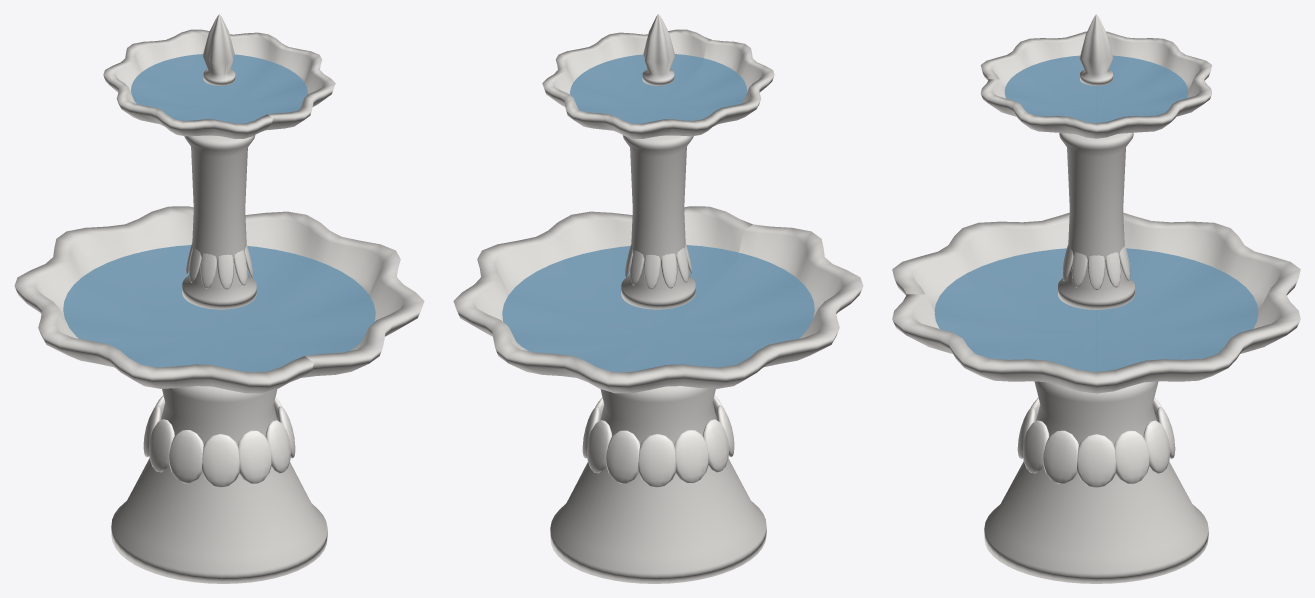
3 views of the same model, side by side, from view 1: azimuth 30°, elevation 25°; view 2: azimuth 150°, elevation 25°; view 3: azimuth 270°, elevation 25° (orthographic).
Parts seen in each view (by area): view 1: basin-basin-1, eau-basin-1, col-bell-0, basin-basin-3, eau-basin-3, col-col-2, leaf-bell-0-4, flame-flame-4, leaf-bell-0-5, leaf-bell-0-3, leaf-bell-0-6, leaf-bell-0-2; view 2: basin-basin-1, eau-basin-1, col-bell-0, basin-basin-3, eau-basin-3, col-col-2, leaf-bell-0-8, flame-flame-4, leaf-bell-0-7, leaf-bell-0-9, leaf-bell-0-6, leaf-bell-0-10; view 3: basin-basin-1, eau-basin-1, col-bell-0, basin-basin-3, col-col-2, eau-basin-3, leaf-bell-0-0, flame-flame-4, leaf-bell-0-1, leaf-bell-0-11, leaf-bell-0-2, leaf-bell-0-10 (+1 smaller).
Part boxes in pixels (x1,y1,x2,y2): basin-basin-1: (14,206,424,393); eau-basin-1: (63,245,375,371); col-bell-0: (111,386,327,583); basin-basin-3: (103,29,335,138); eau-basin-3: (131,54,307,123); col-col-2: (182,135,256,309); leaf-bell-0-4: (202,434,239,487); flame-flame-4: (202,14,235,85); leaf-bell-0-5: (169,430,203,483); leaf-bell-0-3: (237,430,271,483); leaf-bell-0-6: (148,419,174,472); leaf-bell-0-2: (265,420,290,473); basin-basin-1: (453,206,863,393); eau-basin-1: (502,245,814,371); col-bell-0: (550,386,766,583); basin-basin-3: (542,29,774,138); eau-basin-3: (570,54,746,123); col-col-2: (621,135,695,309); leaf-bell-0-8: (638,434,675,487); flame-flame-4: (642,14,675,85); leaf-bell-0-7: (674,430,708,483); leaf-bell-0-9: (606,430,640,483); leaf-bell-0-6: (703,419,729,472); leaf-bell-0-10: (587,420,612,473); basin-basin-1: (892,212,1300,393); eau-basin-1: (934,248,1258,372); col-bell-0: (984,381,1208,583); basin-basin-3: (980,31,1212,138); col-col-2: (1058,132,1134,309); eau-basin-3: (1004,55,1188,123); leaf-bell-0-0: (1077,434,1115,487); flame-flame-4: (1079,14,1113,85); leaf-bell-0-1: (1043,430,1078,483); leaf-bell-0-11: (1114,430,1149,483); leaf-bell-0-2: (1022,420,1049,473); leaf-bell-0-10: (1143,420,1170,473).
Size of the model in its own units: 1.2 by 1.7 by 1.2.
